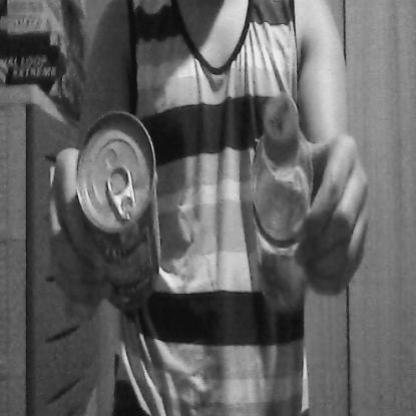Plastic Bottle: (237, 76, 322, 321)
